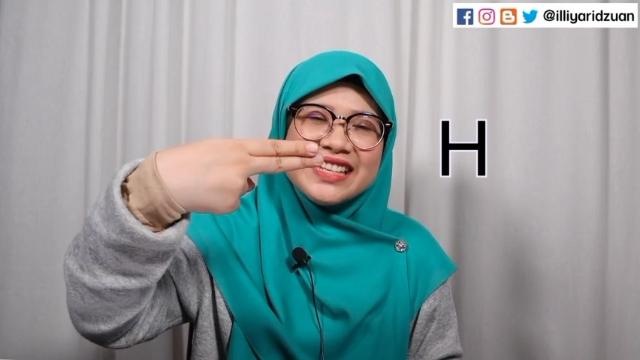H: (162, 136, 326, 218)
